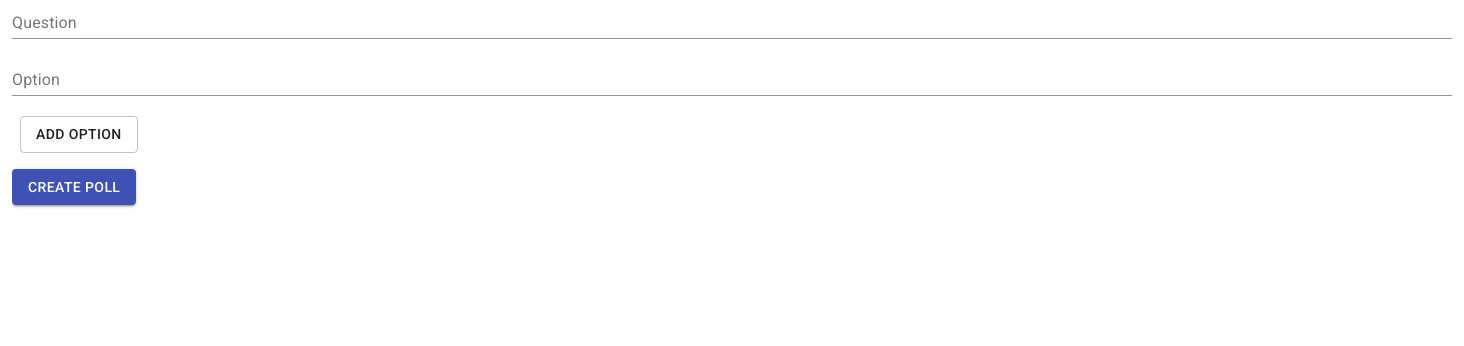
Test case: Component PollCreator › updating › cancel click › render Add option button
Type "option 1" into the field labelled "Option" at (732, 82), box [12,67,1452,96]
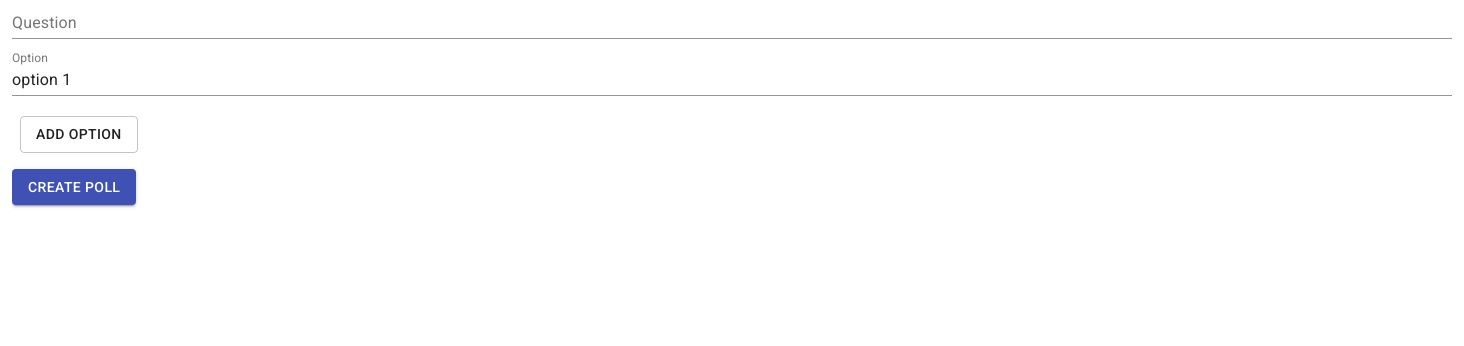
Click the button "Add option" at (79, 134), box [20,116,138,152]
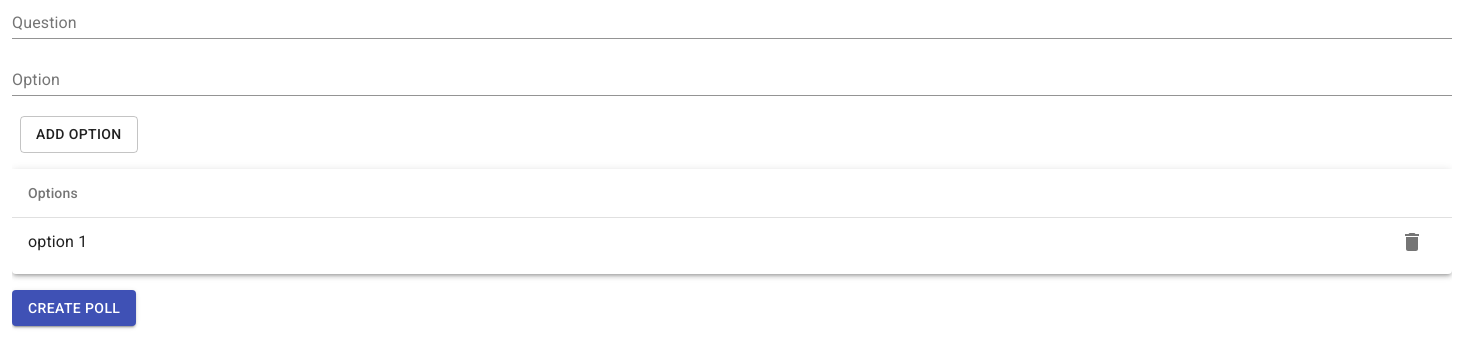
Click the button "option 1" at (58, 241), box [28,232,87,250]
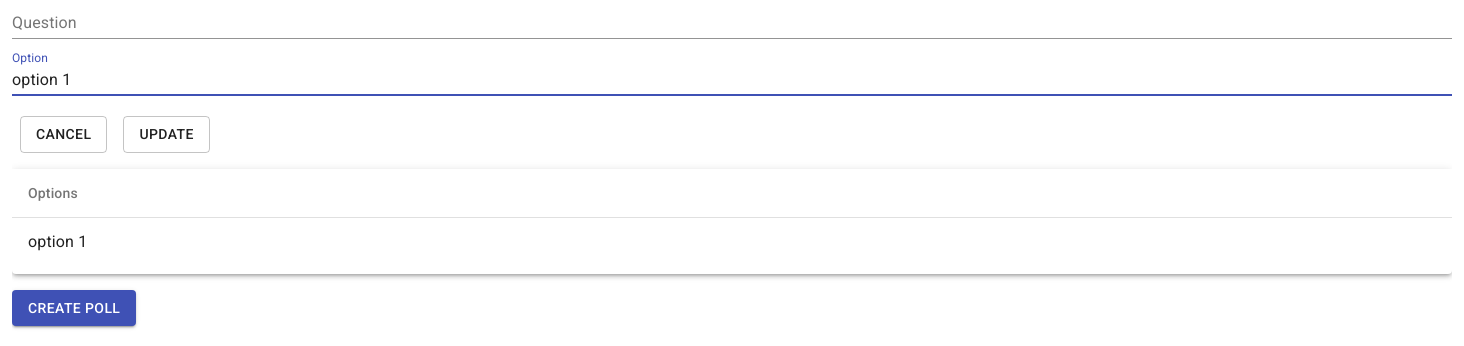
Click the button "Cancel" at (64, 134), box [20,116,107,152]
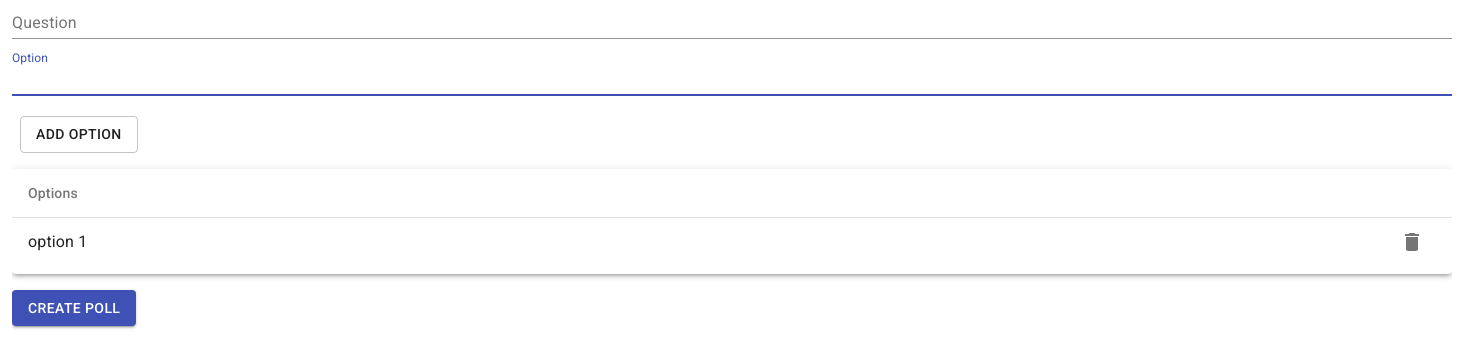
Check: the text "Add option" is shown, box [36,122,122,146]
